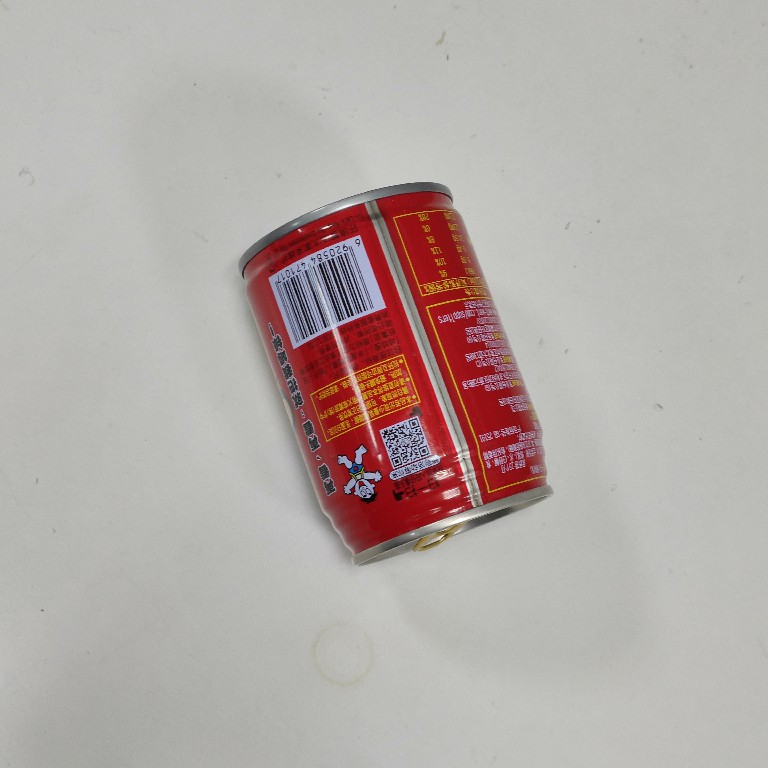can: (230, 173, 563, 572)
